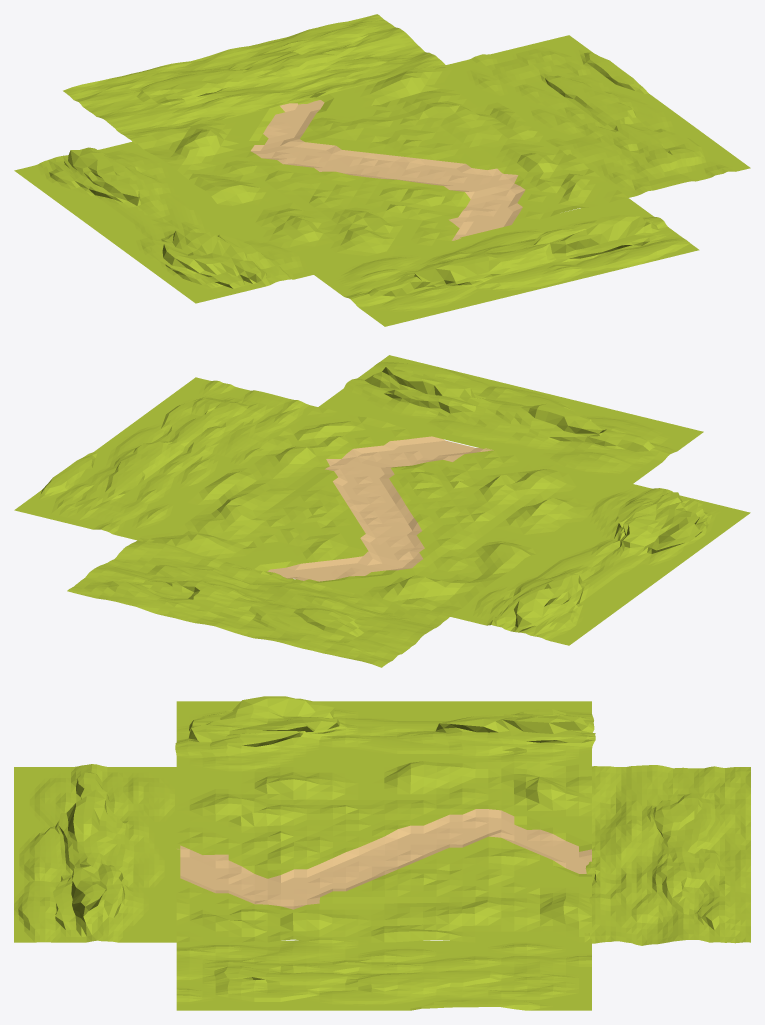
File: LandscapeD4.glb
The picture shows the model from 3 angles, top to bottom: view 1: azimuth 30°, elevation 25°; view 2: azimuth 150°, elevation 25°; view 3: azimuth 270°, elevation 25°; orthographic projection. The views are drawn at different scales.
Visible parts, largest first — view 1: Plane.005, Plane.004, Plane.003, Plane.002, Plane.001, Plane; view 2: Plane.005, Plane.004, Plane.003, Plane.001, Plane.002, Plane; view 3: Plane.005, Plane.004, Plane.003, Plane.001, Plane.002, Plane.
Part boxes in pixels (<box>): Plane.005: <box>132,65,628,274</box>; Plane.004: <box>314,198,699,326</box>; Plane.003: <box>447,35,750,197</box>; Plane.002: <box>14,141,318,303</box>; Plane.001: <box>63,14,447,143</box>; Plane: <box>250,100,525,240</box>; Plane.005: <box>136,407,626,614</box>; Plane.004: <box>319,355,703,483</box>; Plane.003: <box>14,377,317,539</box>; Plane.001: <box>67,538,453,667</box>; Plane.002: <box>450,482,750,645</box>; Plane: <box>267,436,493,581</box>; Plane.005: <box>176,761,591,942</box>; Plane.004: <box>14,764,180,942</box>; Plane.003: <box>176,938,591,1010</box>; Plane.001: <box>584,765,750,945</box>; Plane.002: <box>175,696,595,771</box>; Plane: <box>177,809,591,909</box>.
Bounding box in the file's own units: 70.64 × 2.68 × 70.96.
